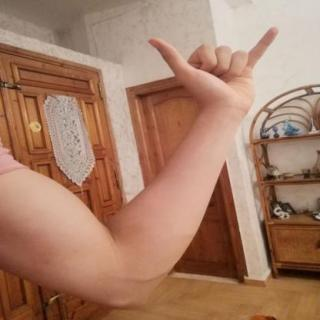YA: (138, 18, 290, 122)
